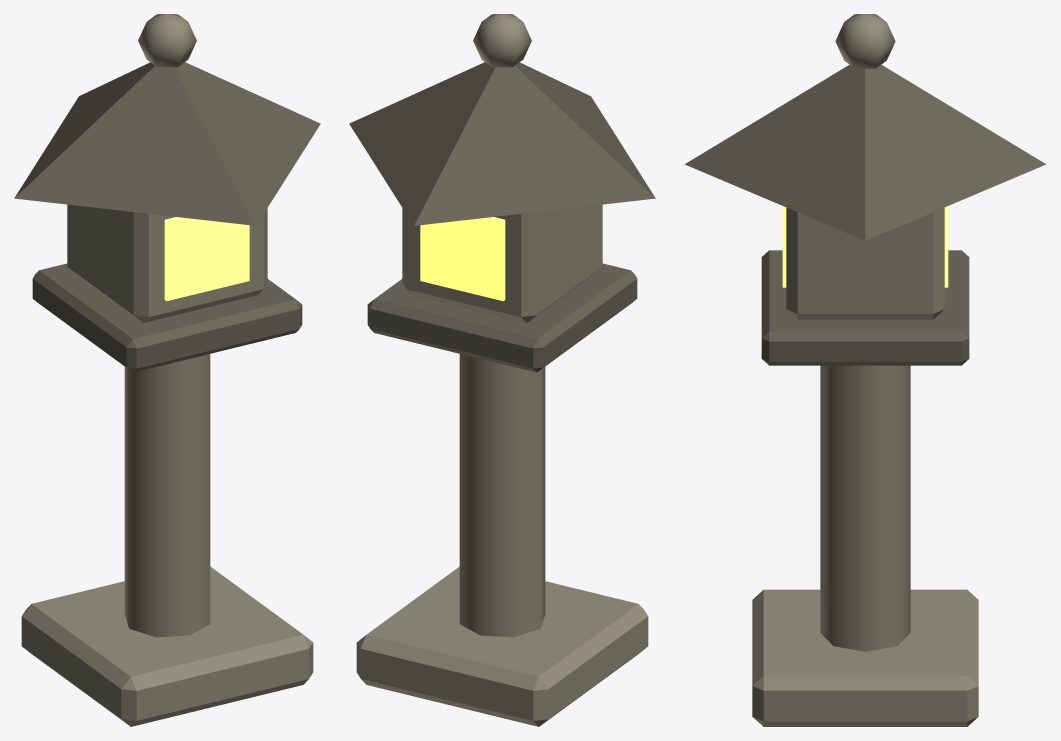
The model's file is lantern_stone.glb.
The picture shows the model from 3 angles, left to right: view 1: azimuth 30°, elevation 25°; view 2: azimuth 150°, elevation 25°; view 3: azimuth 270°, elevation 25°; orthographic projection. The views are drawn at different scales.
Parts seen in each view (by area): view 1: LanternStone; view 2: LanternStone; view 3: LanternStone.
Boxes of the visible parts, box(x1,y1,x2,y2) form: LanternStone: box(14, 14, 320, 726); LanternStone: box(349, 14, 655, 726); LanternStone: box(685, 14, 1045, 726).
Size of what is drawn, in the model's own units: 0.96 by 1.96 by 0.96.
